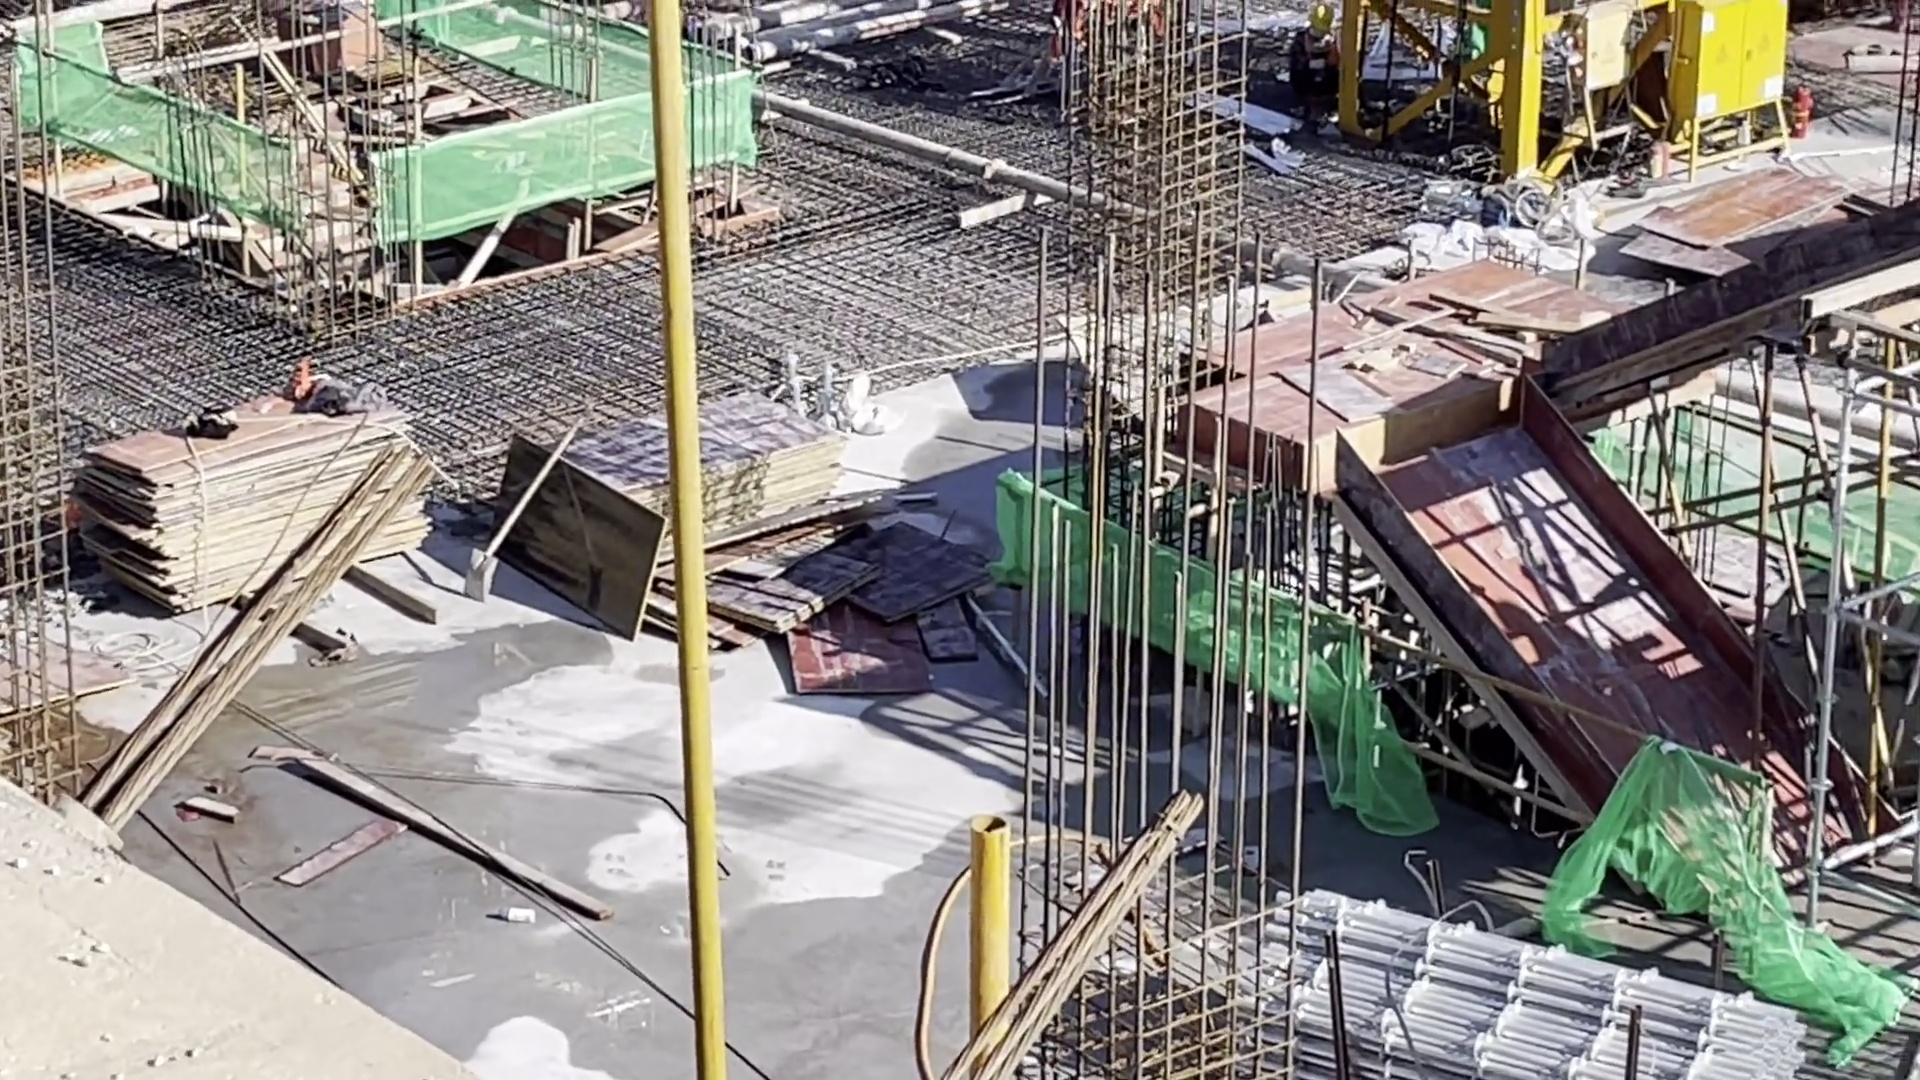board: (124, 391, 444, 582), (539, 411, 828, 554)
ebox: (1699, 1, 1797, 127)
helmet: (1296, 6, 1334, 31)
person: (1281, 1, 1345, 110)
scaffold: (1171, 871, 1720, 1080)
vest: (1291, 32, 1338, 87)
